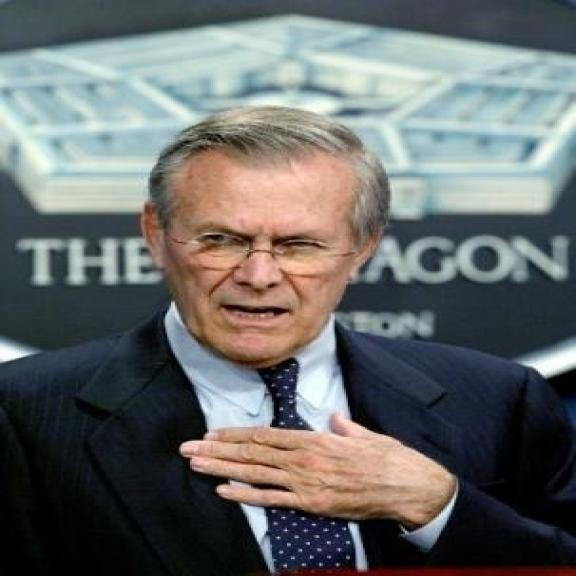face: (132, 150, 386, 364)
